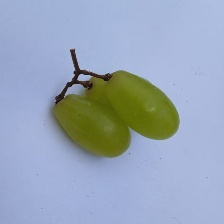grapes: (40, 31, 182, 188)
